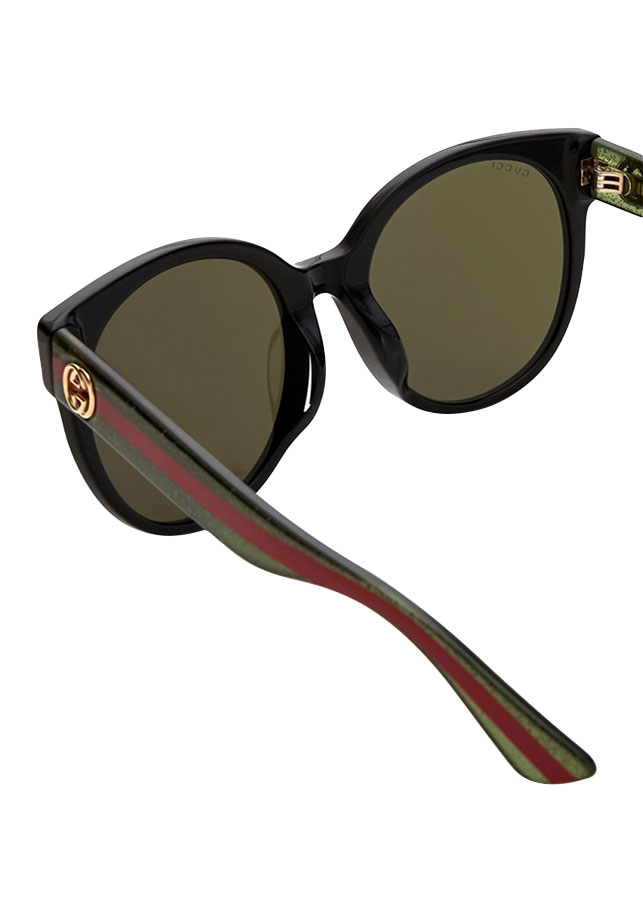Gucci: (50, 348, 107, 428)
